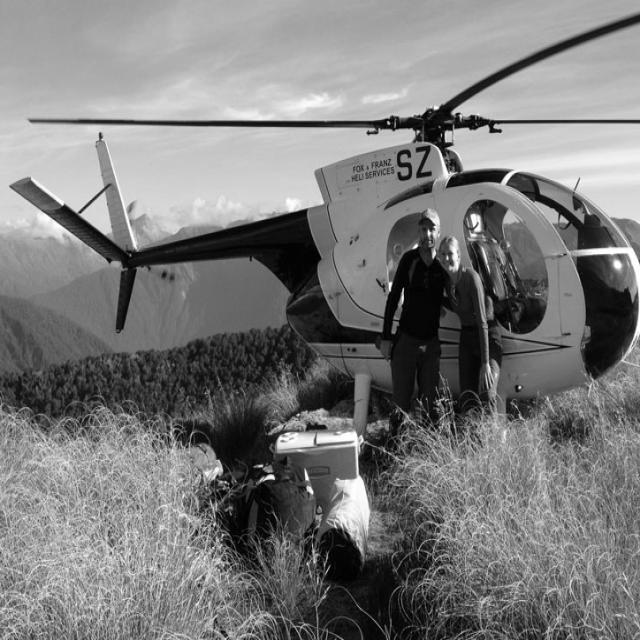helicopter: (1, 24, 640, 483)
